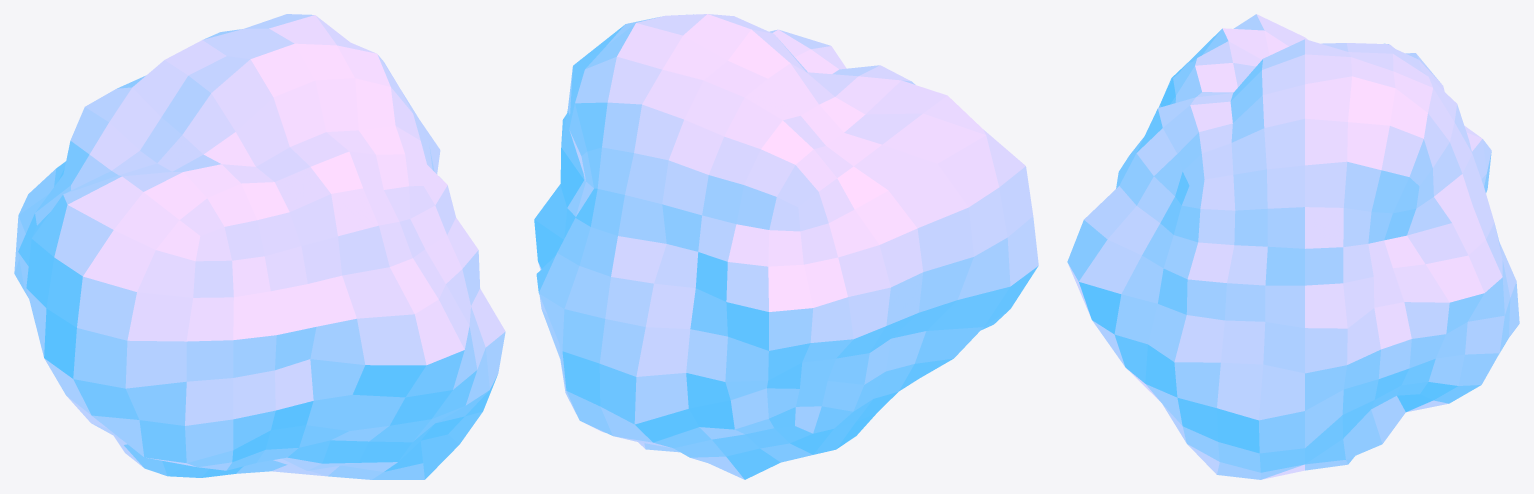
The model's file is Symkinzium Final.fbx.
3 renders of one model, left to right at view 1: azimuth 30°, elevation 25°; view 2: azimuth 150°, elevation 25°; view 3: azimuth 270°, elevation 25°, orthographic. The views are drawn at different scales.
Visible parts, largest first — view 1: Ore; view 2: Ore; view 3: Ore.
Boxes of the visible parts, box(x1,y1,x2,y2) form: Ore: box(14, 14, 505, 479); Ore: box(534, 14, 1038, 479); Ore: box(1067, 14, 1519, 479).
Bounding box in the file's own units: 183 × 171 × 176.
